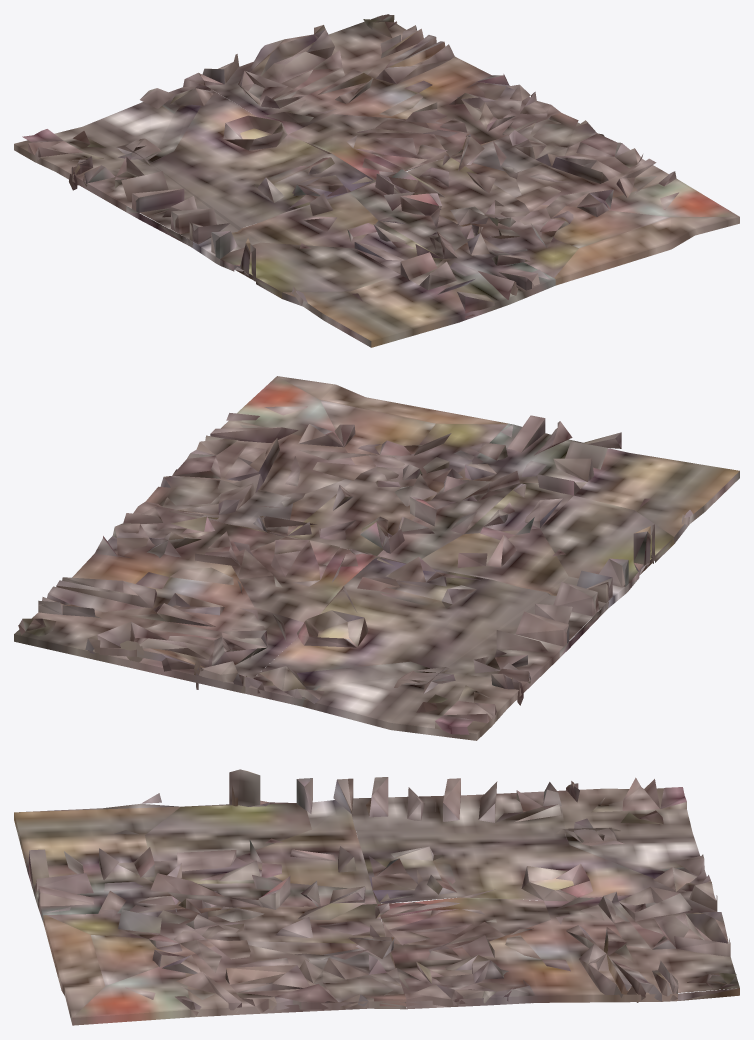
The picture shows the model from 3 angles, top to bottom: view 1: azimuth 30°, elevation 25°; view 2: azimuth 150°, elevation 25°; view 3: azimuth 270°, elevation 25°; orthographic projection. The views are drawn at different scales.
Parts seen in each view (by area): view 1: Mesh_0; view 2: Mesh_0; view 3: Mesh_0.
Part boxes in pixels (bbox=[...]): Mesh_0: bbox=[14, 14, 739, 347]; Mesh_0: bbox=[14, 376, 739, 740]; Mesh_0: bbox=[14, 769, 739, 1025].
Bounding box in the file's own units: 1065 × 108 × 1318.
1 material, 1 textured.
